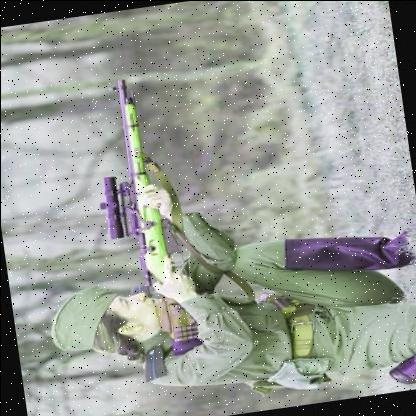rifle: (88, 68, 222, 361)
